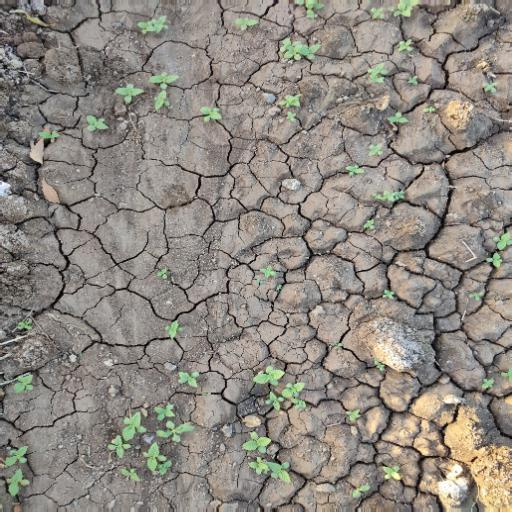crop: (106, 403, 190, 481), (262, 33, 326, 115), (155, 316, 214, 395), (250, 360, 313, 418), (351, 108, 401, 165), (151, 63, 176, 121), (365, 456, 411, 485), (78, 99, 112, 137), (125, 11, 176, 34), (360, 60, 396, 87), (202, 97, 227, 128)
